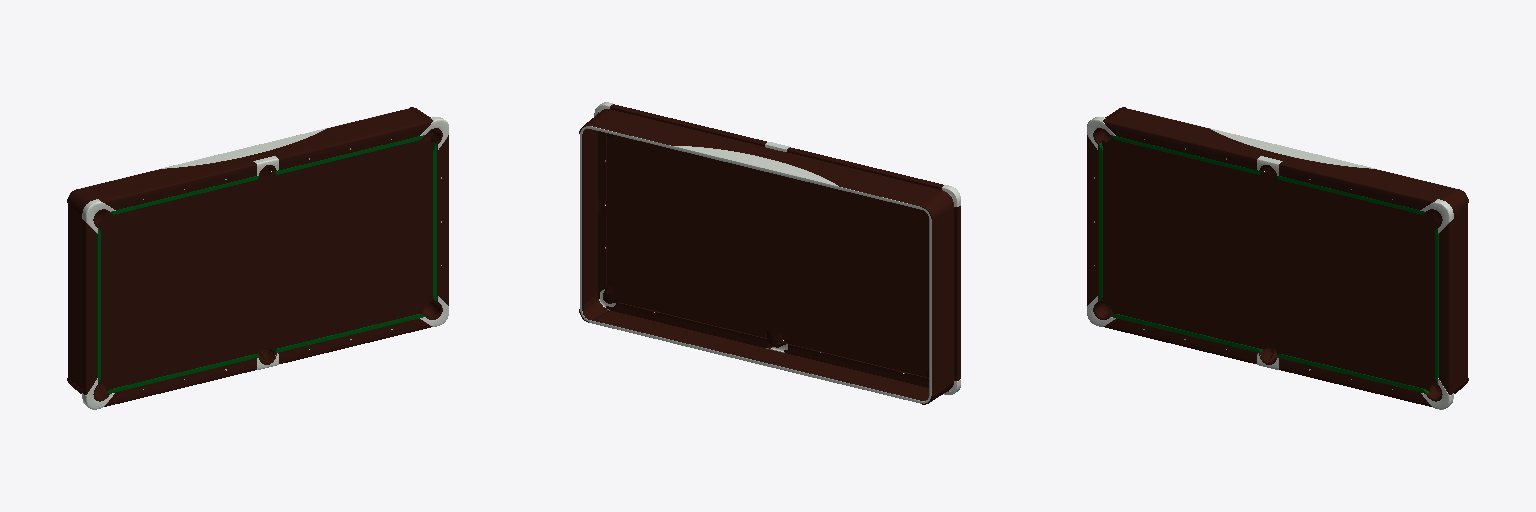
The model's file is table_without_cloth.obj.
The picture shows the model from 3 angles: view 1: azimuth 30°, elevation 25°; view 2: azimuth 150°, elevation 25°; view 3: azimuth 330°, elevation 25°; orthographic projection.
Parts seen in each view (by area): view 1: tableBed.001_Plane.003, tableRail_Plane, tableSide_Circle, tableCushion_Plane.001, tablePocketO_Cube.002, tablePocketI_Circle.000, tableDecor_Circle.002, tableSideCorner_Circle.004; view 2: tableBed.001_Plane.003, tableSide_Circle, tableRail_Plane, tableDecor_Circle.002, tableSideCorner_Circle.004, tablePocketO_Cube.002, tablePocketI_Circle.000; view 3: tableBed.001_Plane.003, tableRail_Plane, tableSide_Circle, tableCushion_Plane.001, tablePocketO_Cube.002, tablePocketI_Circle.000, tableDecor_Circle.002, tableSideCorner_Circle.004.
Boxes of the visible parts, x1=… form: tableBed.001_Plane.003: x1=96, y1=137, x2=433, y2=391; tableRail_Plane: x1=83, y1=119, x2=448, y2=406; tableSide_Circle: x1=68, y1=108, x2=431, y2=389; tableCushion_Plane.001: x1=97, y1=135, x2=436, y2=393; tablePocketO_Cube.002: x1=82, y1=117, x2=448, y2=409; tablePocketI_Circle.000: x1=93, y1=128, x2=442, y2=401; tableDecor_Circle.002: x1=80, y1=108, x2=408, y2=188; tableSideCorner_Circle.004: x1=67, y1=107, x2=430, y2=393; tableBed.001_Plane.003: x1=607, y1=135, x2=928, y2=377; tableSide_Circle: x1=582, y1=110, x2=953, y2=400; tableRail_Plane: x1=597, y1=104, x2=960, y2=391; tableDecor_Circle.002: x1=580, y1=126, x2=931, y2=403; tableSideCorner_Circle.004: x1=579, y1=109, x2=954, y2=404; tablePocketO_Cube.002: x1=594, y1=102, x2=960, y2=394; tablePocketI_Circle.000: x1=603, y1=132, x2=951, y2=377; tableBed.001_Plane.003: x1=1102, y1=137, x2=1439, y2=391; tableRail_Plane: x1=1087, y1=119, x2=1452, y2=406; tableSide_Circle: x1=1104, y1=108, x2=1467, y2=389; tableCushion_Plane.001: x1=1099, y1=135, x2=1438, y2=393; tablePocketO_Cube.002: x1=1087, y1=117, x2=1453, y2=409; tablePocketI_Circle.000: x1=1093, y1=128, x2=1442, y2=401; tableDecor_Circle.002: x1=1127, y1=108, x2=1455, y2=188; tableSideCorner_Circle.004: x1=1105, y1=107, x2=1468, y2=393.
Bounding box in the file's own units: 2.56 × 1.39 × 0.2992.